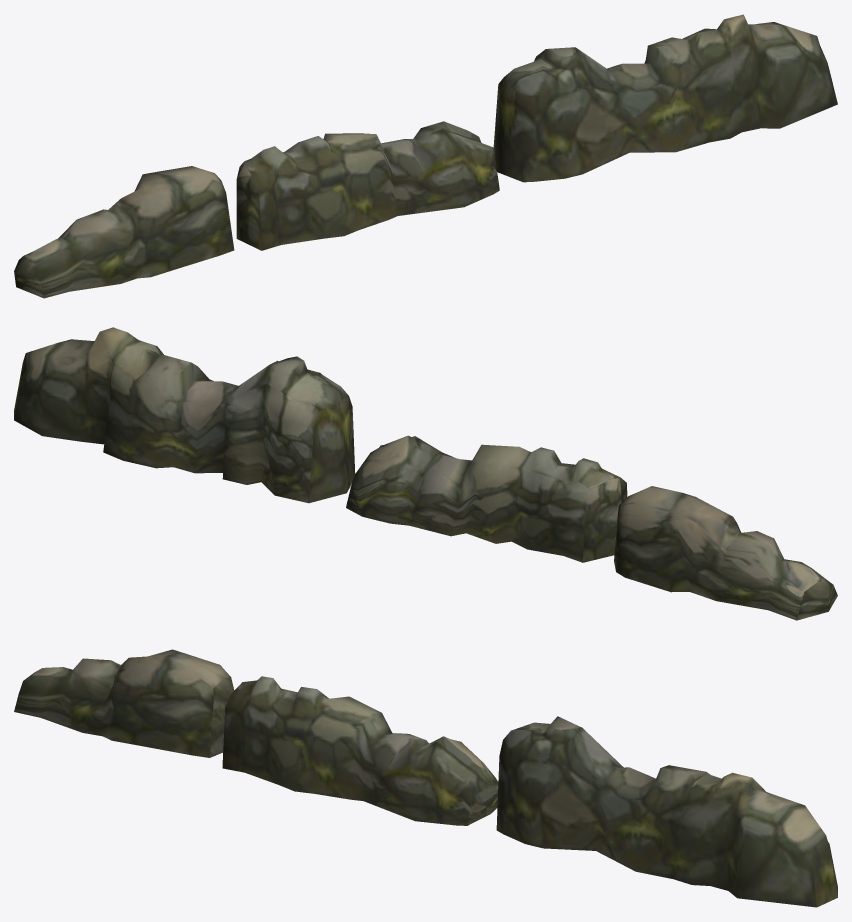
Rendered from 2_YiZhan_AiQiang_01.FBX.
The picture shows the model from 3 angles, top to bottom: view 1: azimuth 30°, elevation 25°; view 2: azimuth 150°, elevation 25°; view 3: azimuth 330°, elevation 25°; orthographic projection.
Visible parts, largest first — view 1: 2_YiZhan_AiQiang_03, 2_YiZhan_AiQiang_02, 2_YiZhan_AiQiang_01; view 2: 2_YiZhan_AiQiang_03, 2_YiZhan_AiQiang_02, 2_YiZhan_AiQiang_01; view 3: 2_YiZhan_AiQiang_03, 2_YiZhan_AiQiang_02, 2_YiZhan_AiQiang_01.
Part boxes in pixels (x1,y1,x2,y2): 2_YiZhan_AiQiang_03: (493, 14, 837, 182); 2_YiZhan_AiQiang_02: (236, 121, 499, 250); 2_YiZhan_AiQiang_01: (14, 166, 234, 298); 2_YiZhan_AiQiang_03: (14, 327, 355, 503); 2_YiZhan_AiQiang_02: (346, 435, 627, 562); 2_YiZhan_AiQiang_01: (614, 486, 837, 620); 2_YiZhan_AiQiang_03: (496, 716, 837, 907); 2_YiZhan_AiQiang_02: (222, 676, 498, 825); 2_YiZhan_AiQiang_01: (14, 649, 234, 757).
Size of the model in its own units: 928 by 120 by 102.
1 material, 1 textured.
